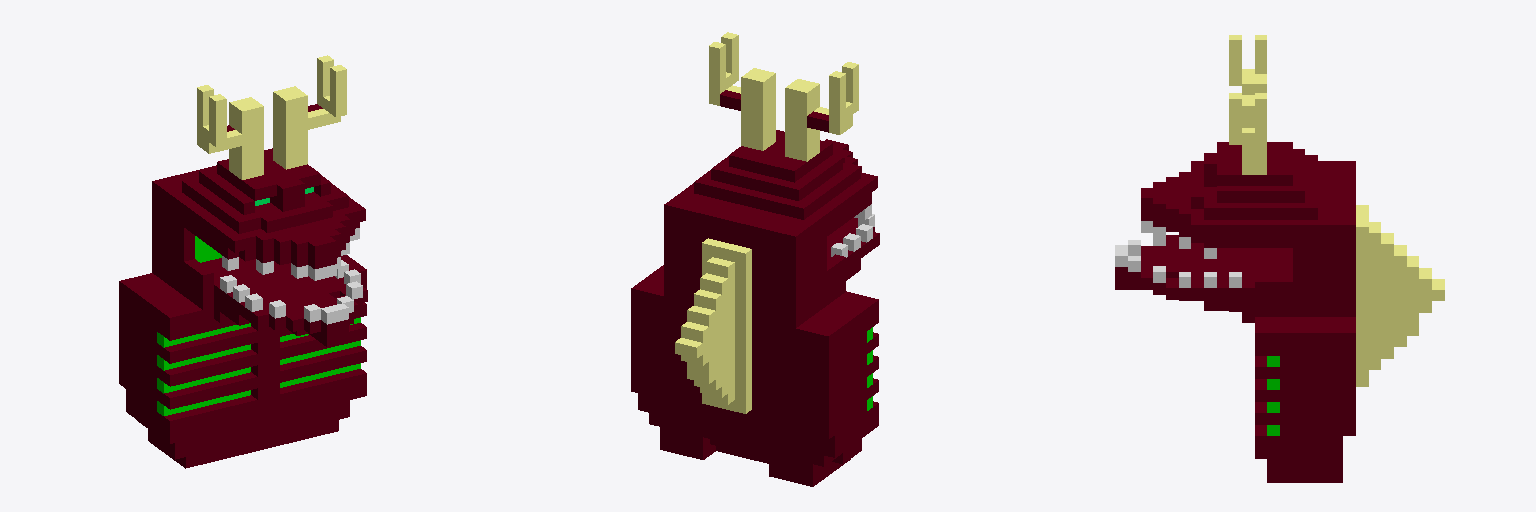
3 renders of one model, left to right at view 1: azimuth 30°, elevation 25°; view 2: azimuth 150°, elevation 25°; view 3: azimuth 270°, elevation 25°, orthographic.
Visible parts, largest first — view 1: object 1; view 2: object 1; view 3: object 1.
Part boxes in pixels (x1,y1,x2,y2): object 1: (119,55,367,468); object 1: (631,32,879,486); object 1: (1115,35,1444,482).
Bounding box in the file's own units: 1.8 × 3.3 × 2.6.
1 materials, 1 textured.